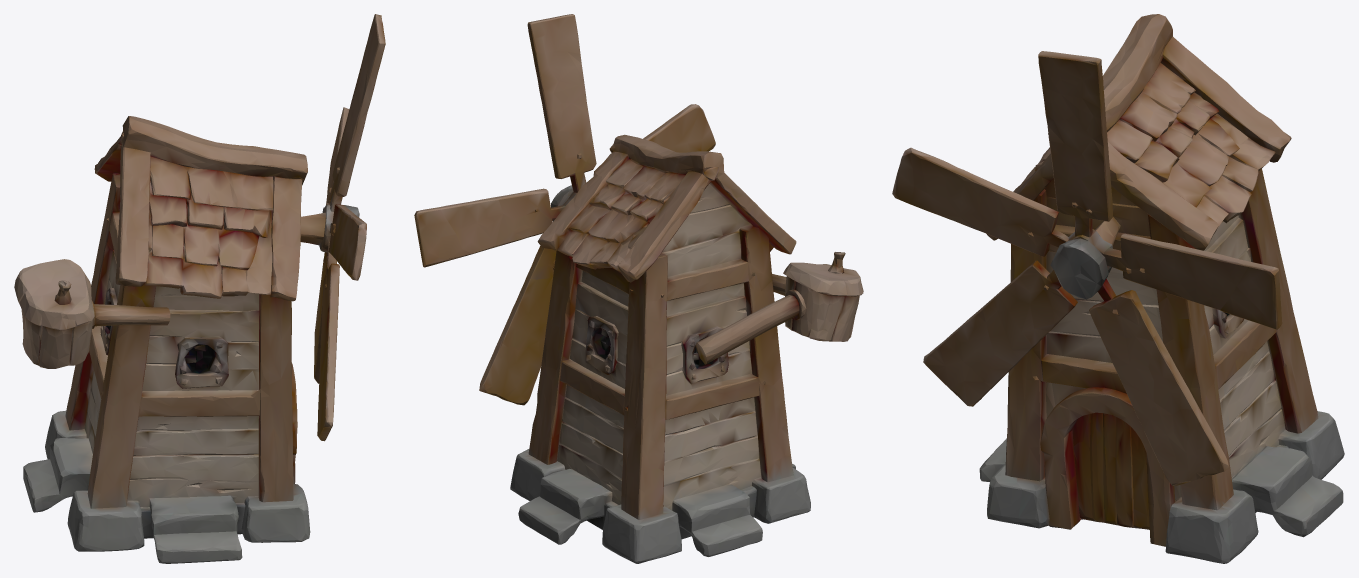
The model's file is emberdeep_storehouse.glb.
The picture shows the model from 3 angles, left to right: view 1: azimuth 30°, elevation 25°; view 2: azimuth 150°, elevation 25°; view 3: azimuth 270°, elevation 25°; orthographic projection. The views are drawn at different scales.
Parts seen in each view (by area): view 1: emberdeep_storehouse; view 2: emberdeep_storehouse; view 3: emberdeep_storehouse.
Boxes of the visible parts, x1,y1,x2,y2 form: emberdeep_storehouse: (14,14,385,563); emberdeep_storehouse: (414,14,863,563); emberdeep_storehouse: (892,14,1344,563).
Bounding box in the file's own units: 5.77 × 6.3 × 4.9.
